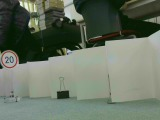speed_20: (1, 49, 21, 70)
